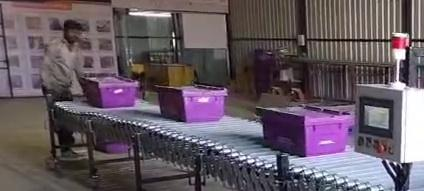box: (256, 107, 353, 156), (157, 85, 227, 122), (80, 77, 138, 108)
